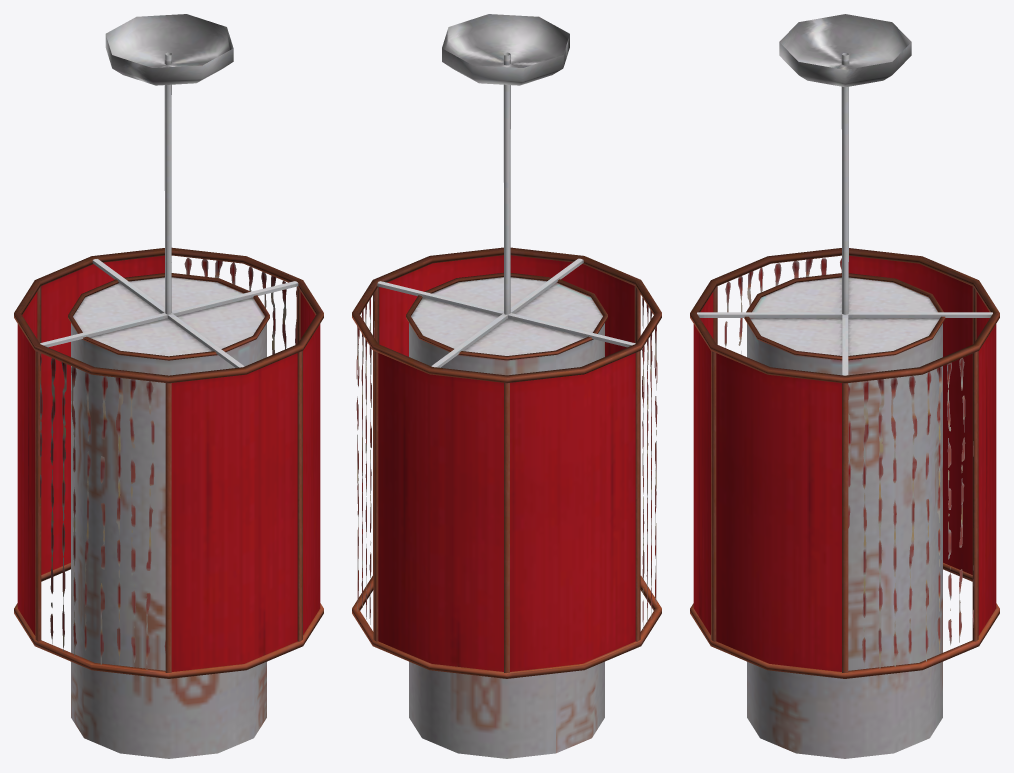
Rendered from furni_0200497.FBX.
The picture shows the model from 3 angles, left to right: view 1: azimuth 30°, elevation 25°; view 2: azimuth 150°, elevation 25°; view 3: azimuth 270°, elevation 25°; orthographic projection.
Parts seen in each view (by area): view 1: furni_0200404; view 2: furni_0200404; view 3: furni_0200404.
Part boxes in pixels (left/top/right/bottom): furni_0200404: left=14, top=14, right=323, bottom=758; furni_0200404: left=352, top=14, right=661, bottom=758; furni_0200404: left=690, top=14, right=999, bottom=758.
Size of the model in its own units: 30.04 by 72.32 by 30.04.
Materials: 1 (1 with a texture image).
